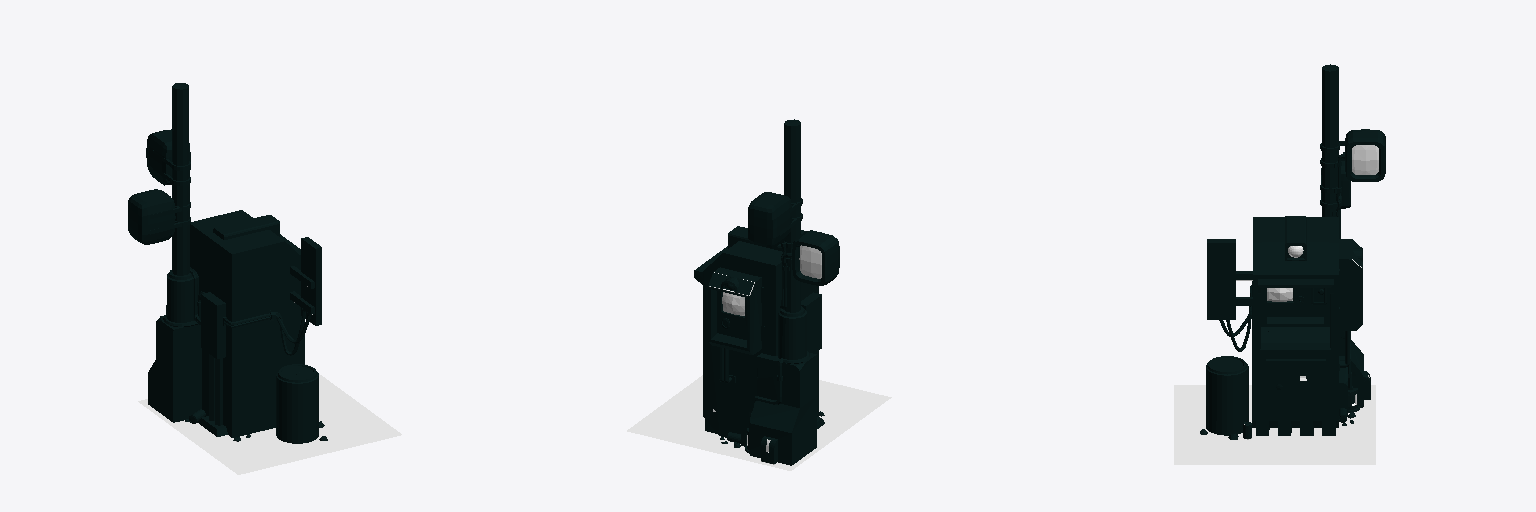
The model's file is ATM_TEXTUR.mtl.obj.
The picture shows the model from 3 angles: view 1: azimuth 30°, elevation 25°; view 2: azimuth 150°, elevation 25°; view 3: azimuth 270°, elevation 25°; orthographic projection.
Parts seen in each view (by area): view 1: ATM.002, ATM.001_ATM.003; view 2: ATM.002, ATM.001_ATM.003, ATM.003_ATM.004; view 3: ATM.002, ATM.001_ATM.003, ATM.003_ATM.004.
Part boxes in pixels (x1,y1,x2,y2): ATM.002: (128,83,327,443); ATM.001_ATM.003: (138,286,401,474); ATM.002: (694,119,839,465); ATM.001_ATM.003: (627,272,891,470); ATM.003_ATM.004: (722,245,821,451); ATM.002: (1200,64,1385,439); ATM.001_ATM.003: (1174,259,1375,464); ATM.003_ATM.004: (1267,145,1378,301).
Size of the model in its own units: 5.09 by 8.48 by 4.98.